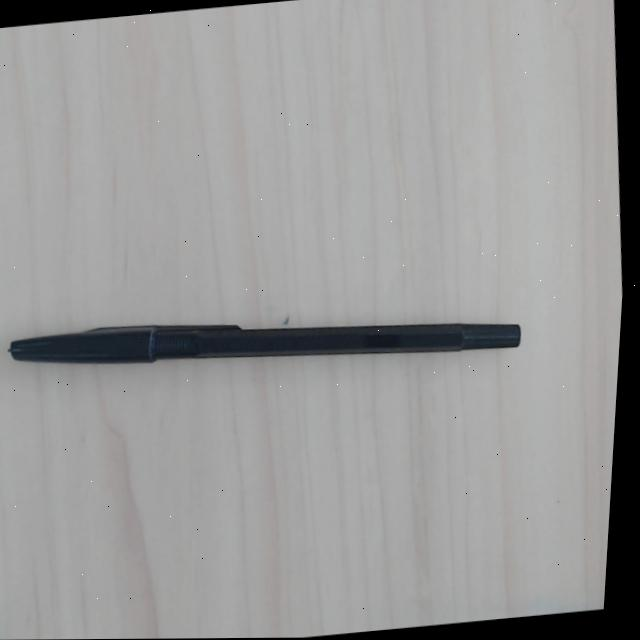Pulpen-Hitam: (8, 318, 521, 363)
